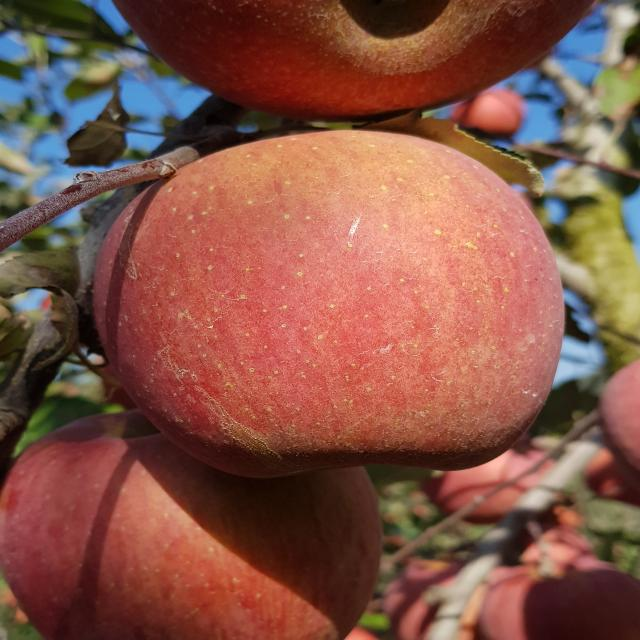fresh: (78, 119, 574, 487)
